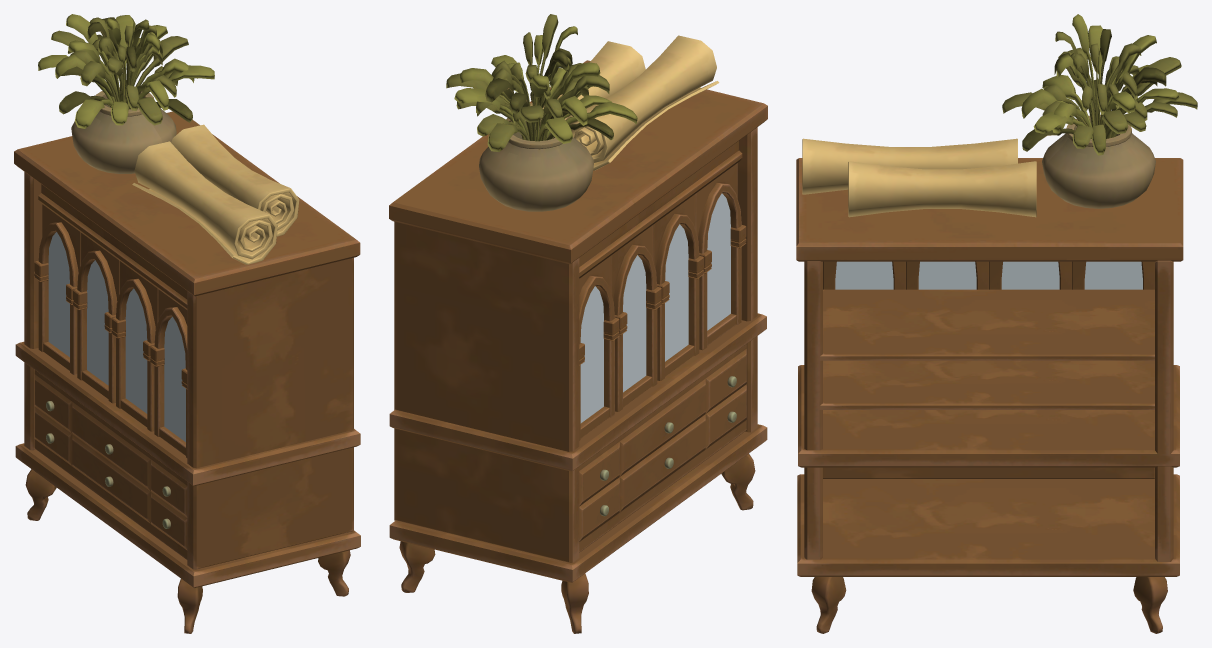
The model's file is CabinetStructure.fbx.
3 renders of one model, left to right at view 1: azimuth 30°, elevation 25°; view 2: azimuth 150°, elevation 25°; view 3: azimuth 270°, elevation 25°, orthographic. The views are drawn at different scales.
Parts seen in each view (by area): view 1: cabinetStructure1; view 2: cabinetStructure1; view 3: cabinetStructure1.
Boxes of the visible parts, bbox=[...] form: cabinetStructure1: bbox=[14, 14, 360, 633]; cabinetStructure1: bbox=[389, 14, 767, 633]; cabinetStructure1: bbox=[796, 14, 1197, 633].
Bounding box in the file's own units: 548 × 1570 × 1026.
